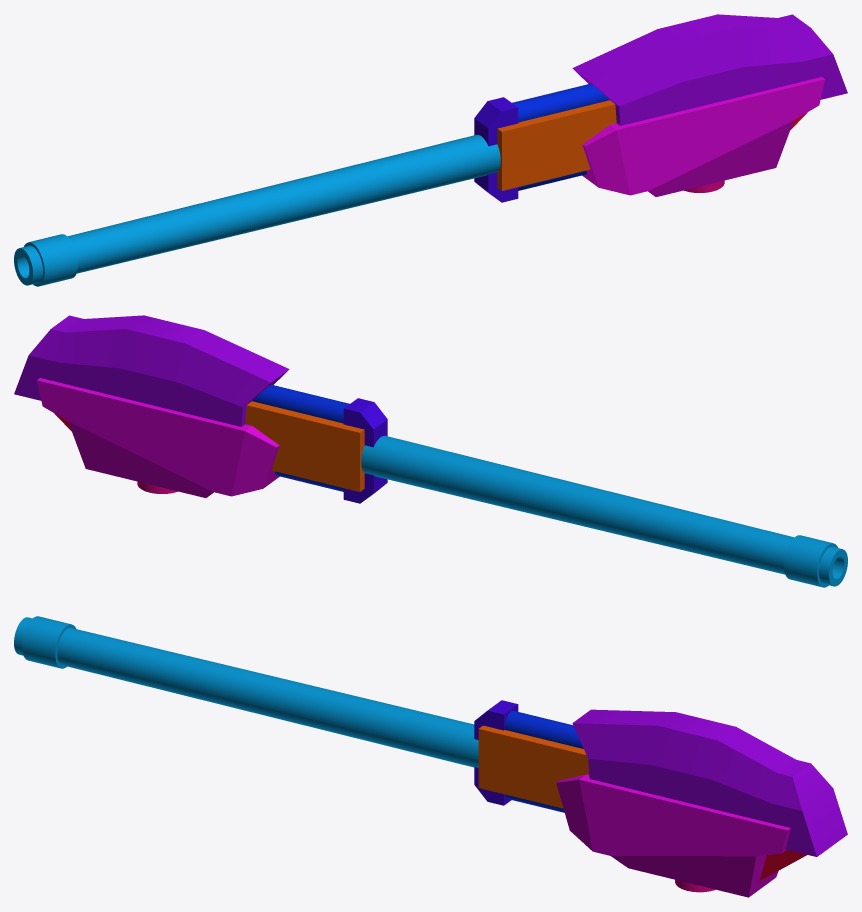
Rendered from autocannon_size1.glb.
3 renders of one model, top to bottom at view 1: azimuth 30°, elevation 25°; view 2: azimuth 150°, elevation 25°; view 3: azimuth 330°, elevation 25°, orthographic.
Visible parts, largest first — view 1: Cylinder, Cube.002, Cube.001, Cube.003, Cylinder.001, Cube; view 2: Cylinder, Cube.002, Cube.001, Cube.003, Cylinder.001, Cube; view 3: Cube.002, Cylinder, Cube.001, Cube.003, Cylinder.001, Cube, Cube.005.
Boxes of the visible parts, x1,y1,x2,y2 form: Cylinder: (14, 134, 500, 286); Cube.002: (572, 14, 847, 125); Cube.001: (582, 77, 825, 196); Cube.003: (497, 100, 616, 190); Cylinder.001: (512, 83, 609, 190); Cube: (474, 97, 518, 202); Cylinder: (361, 435, 847, 587); Cube.002: (14, 315, 289, 426); Cube.001: (36, 378, 279, 497); Cube.003: (245, 401, 364, 491); Cylinder.001: (252, 384, 349, 491); Cube: (343, 398, 387, 503); Cube.002: (572, 709, 847, 856); Cylinder: (14, 616, 478, 767); Cube.001: (556, 774, 790, 897); Cube.003: (478, 725, 589, 808); Cylinder.001: (504, 710, 583, 812); Cube: (474, 700, 518, 805); Cube.005: (759, 850, 806, 880).
Size of the model in its own units: 5.56 by 1.02 by 0.4475.
